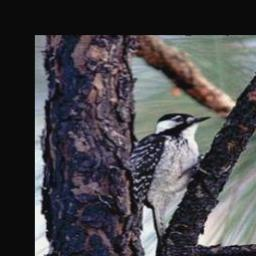Woodpecker: (128, 111, 214, 241)
